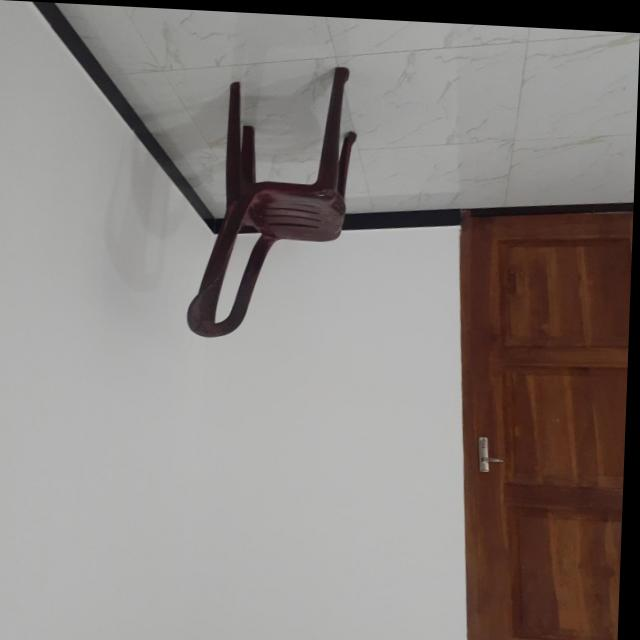Chair: (190, 58, 361, 342)
